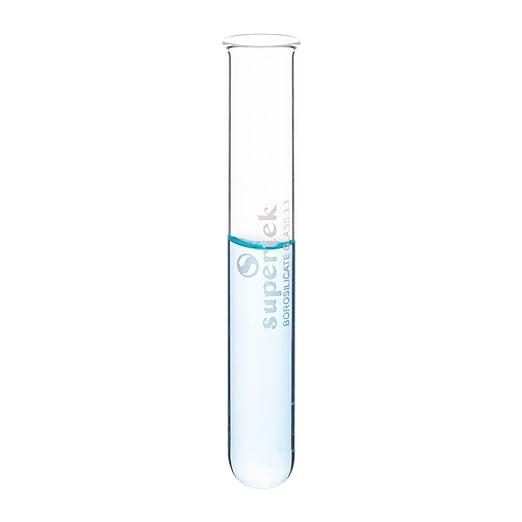Test tube: (204, 27, 314, 490)
